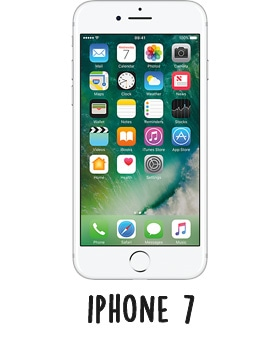mobile: (66, 1, 221, 280)
